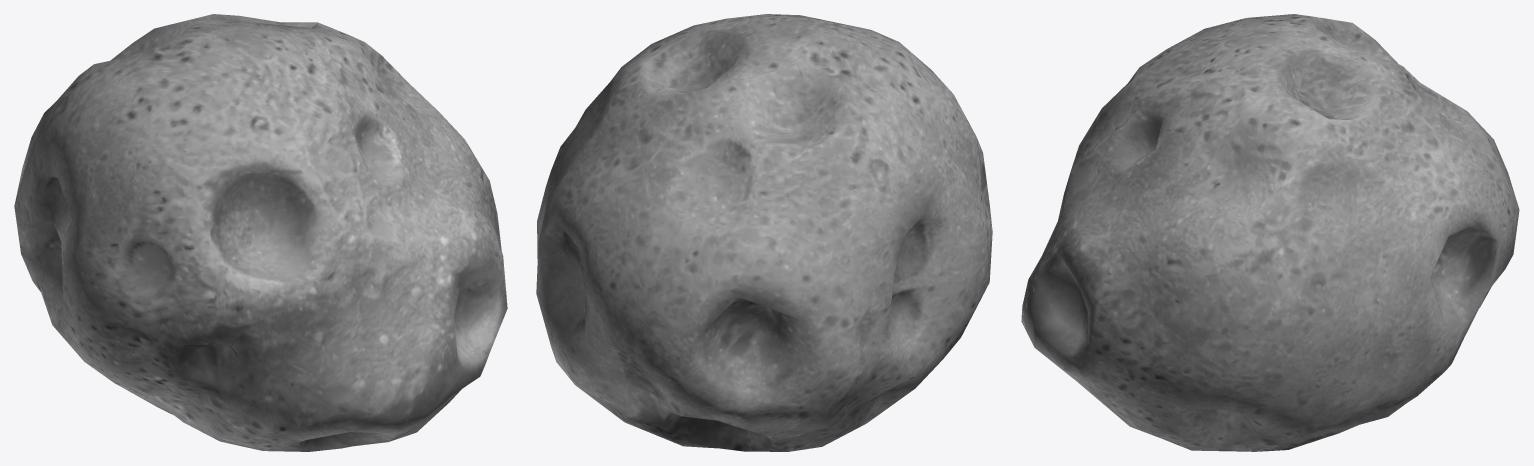
Rendered from rock_06.glb.
3 renders of one model, left to right at view 1: azimuth 30°, elevation 25°; view 2: azimuth 150°, elevation 25°; view 3: azimuth 270°, elevation 25°, orthographic. The views are drawn at different scales.
Parts seen in each view (by area): view 1: rock_06; view 2: rock_06; view 3: rock_06.
Boxes of the visible parts, x1,y1,x2,y2 form: rock_06: [14, 14, 507, 451]; rock_06: [536, 14, 992, 451]; rock_06: [1021, 14, 1519, 451].
Bounding box in the file's own units: 1.63 × 1.54 × 1.88.
Materials: 1 (1 with a texture image).
